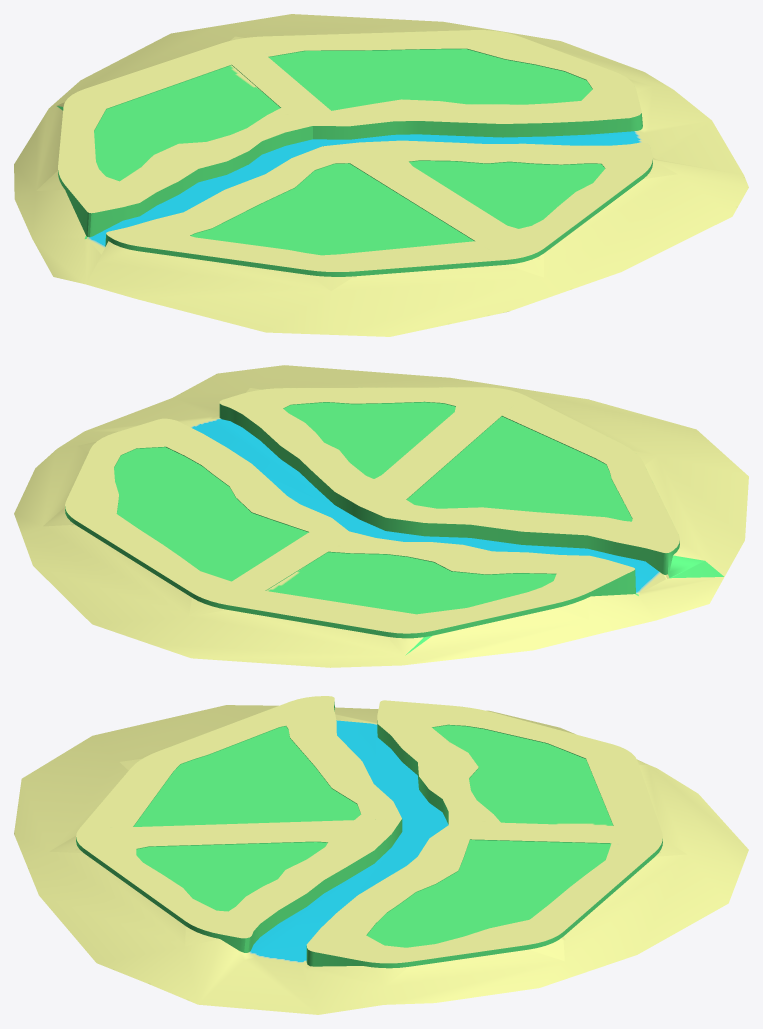
File: Island.fbx
3 views of the same model, one above another, from view 1: azimuth 30°, elevation 25°; view 2: azimuth 150°, elevation 25°; view 3: azimuth 270°, elevation 25° (orthographic).
Visible parts, largest first — view 1: Island2; view 2: Island2; view 3: Island2.
Part boxes in pixels (bbox=[...]): Island2: bbox=[14, 14, 748, 336]; Island2: bbox=[14, 365, 748, 667]; Island2: bbox=[14, 696, 748, 1014].
Bounding box in the file's own units: 11434 × 610 × 11329.
Materials: 1 (1 with a texture image).
